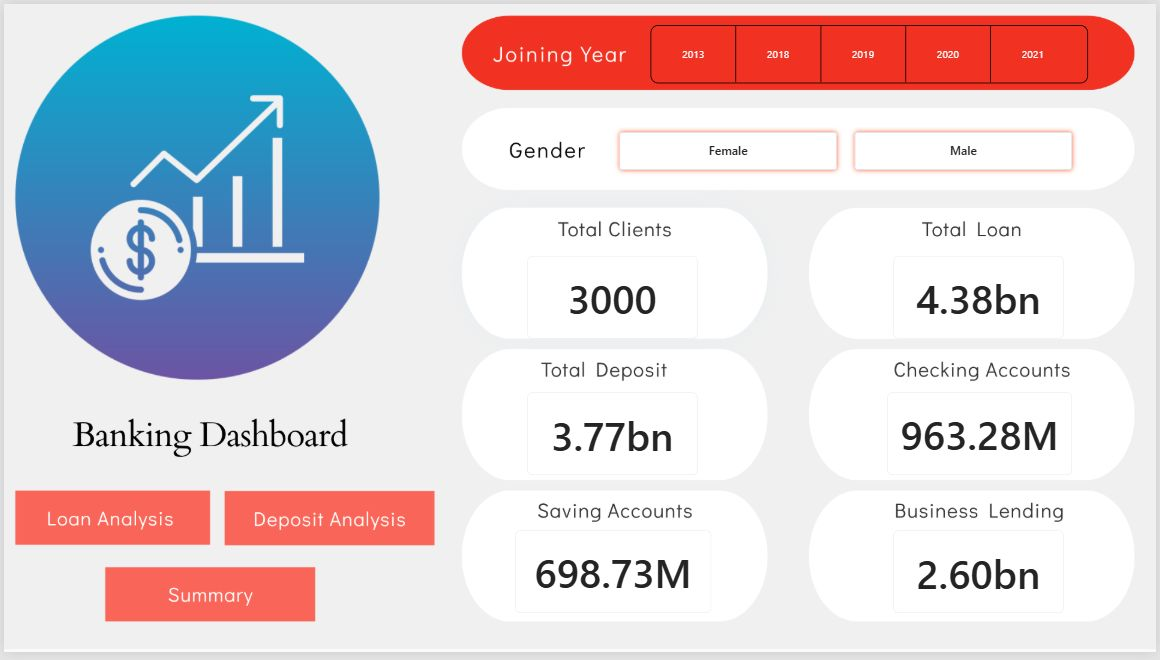

This screenshot's page, from the dashboard's own definition file:
{"tool":"powerbi","page":{"name":"Home","canvas":[1920,1080],"ordinal":0},"visuals":[{"type":"card","fields":{"Values":["CountNonNull(banking_case customer.Name)"]},"box":[872.9,420.8,283.3,137.5],"z":0},{"type":"advancedSlicerVisual","fields":{"Values":["banking_case customer.GenderId"]},"box":[1014.6,202.1,777.1,85.4],"z":1000},{"type":"card","fields":{"Values":["banking_case customer.tatal loan"]},"box":[1483.3,420.8,283.3,137.5],"z":2000},{"type":"card","fields":{"Values":["banking_case customer.total deposit"]},"box":[872.9,647.1,283.3,137.5],"z":3000},{"type":"card","fields":{"Values":["Sum(banking_case customer.Checking Accounts)"]},"box":[1471.4,647.1,307.1,137.1],"z":4000},{"type":"card","fields":{"Values":["Sum(banking_case customer.Saving Accounts)"]},"box":[851.4,878.6,325.7,137.1],"z":5000},{"type":"card","fields":{"Values":["Sum(banking_case customer.Business Lending)"]},"box":[1482.9,878.6,283.3,137.5],"z":6000},{"type":"advancedSlicerVisual","fields":{"Values":["banking_case customer.Year of Joining"]},"box":[1077.8,35.6,733.3,97.8],"z":6001},{"type":"actionButton","box":[22.7,815.9,320.5,86.4],"z":6002},{"type":"actionButton","box":[379.5,815.9,329.5,86.4],"z":6003},{"type":"actionButton","box":[184.2,941.7,330.8,90],"z":6004}]}

Visuals, with their boxes in screenshot pixels (x1, y1, x2, y2), scaled from the page's 1920x1080 canvas onto the 1160x660 screenshot:
card - CountNonNull(banking_case customer.Name): detection(527, 257, 699, 341)
advancedSlicerVisual - banking_case customer.GenderId: detection(613, 124, 1082, 176)
card - banking_case customer.tatal loan: detection(896, 257, 1067, 341)
card - banking_case customer.total deposit: detection(527, 395, 699, 479)
card - Sum(banking_case customer.Checking Accounts): detection(889, 395, 1075, 479)
card - Sum(banking_case customer.Saving Accounts): detection(514, 537, 711, 621)
card - Sum(banking_case customer.Business Lending): detection(896, 537, 1067, 621)
advancedSlicerVisual - banking_case customer.Year of Joining: detection(651, 22, 1094, 82)
actionButton: detection(14, 499, 207, 551)
actionButton: detection(229, 499, 428, 551)
actionButton: detection(111, 575, 311, 630)
